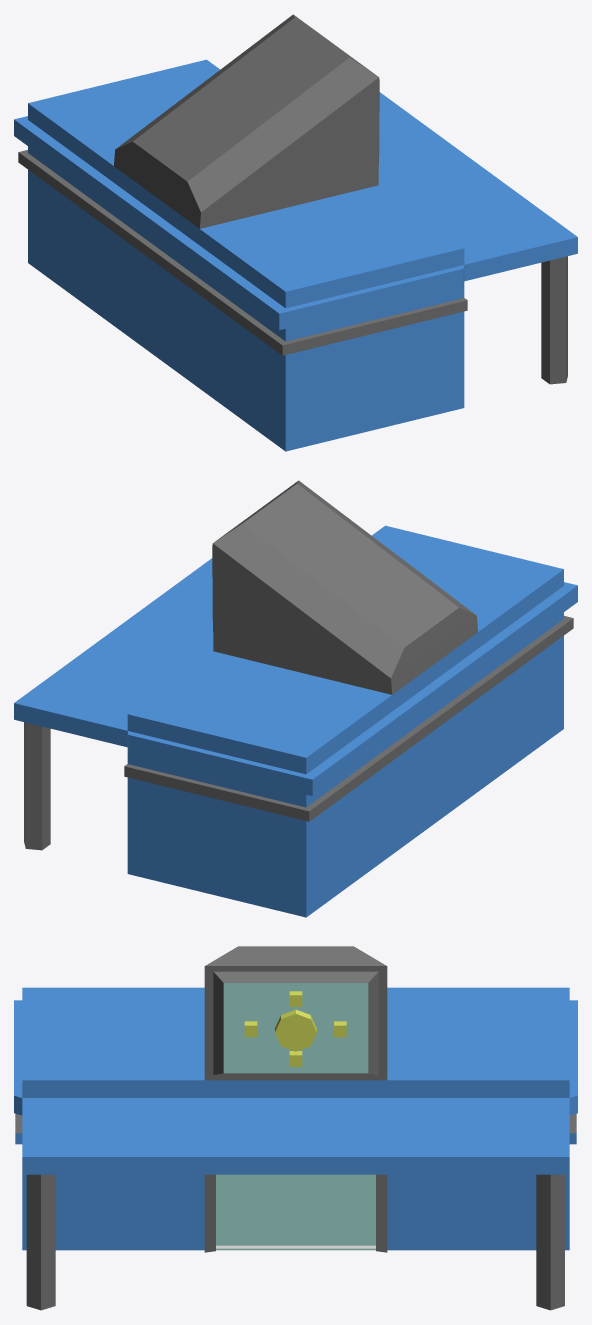
Rendered from PlayerStore.fbx.
3 renders of one model, top to bottom at view 1: azimuth 30°, elevation 25°; view 2: azimuth 150°, elevation 25°; view 3: azimuth 270°, elevation 25°, orthographic. The views are drawn at different scales.
Parts seen in each view (by area): view 1: Store; view 2: Store; view 3: Store.
Boxes of the visible parts, box(x1,y1,x2,y2) form: Store: box(14, 14, 577, 451); Store: box(14, 480, 577, 917); Store: box(14, 946, 577, 1310).
Bounding box in the file's own units: 18.66 × 16.58 × 28.37.
